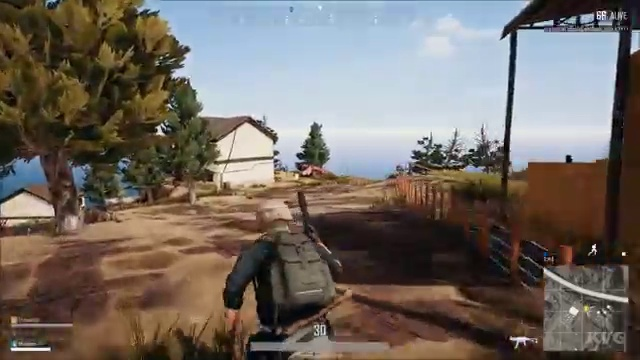Player: (189, 185, 379, 310)
